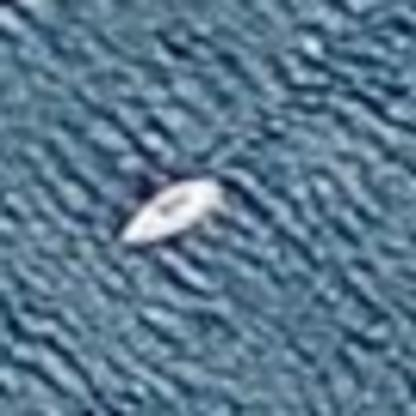ship: (108, 168, 235, 251)
